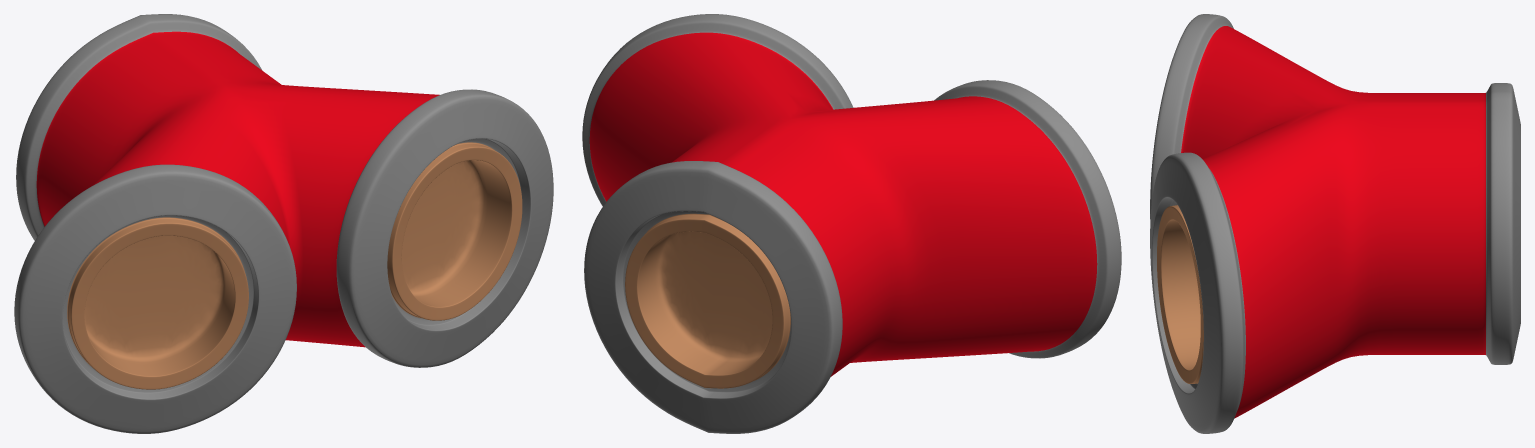
File: Sammelstück.fbx
3 renders of one model, left to right at view 1: azimuth 30°, elevation 25°; view 2: azimuth 150°, elevation 25°; view 3: azimuth 270°, elevation 25°, orthographic.
Parts seen in each view (by area): view 1: Duese; view 2: Duese; view 3: Duese.
Boxes of the visible parts, bbox=[...] form: Duese: bbox=[14, 14, 553, 433]; Duese: bbox=[582, 14, 1121, 433]; Duese: bbox=[1150, 14, 1520, 433].
Bounding box in the file's own units: 16.64 × 7.9 × 10.19.
